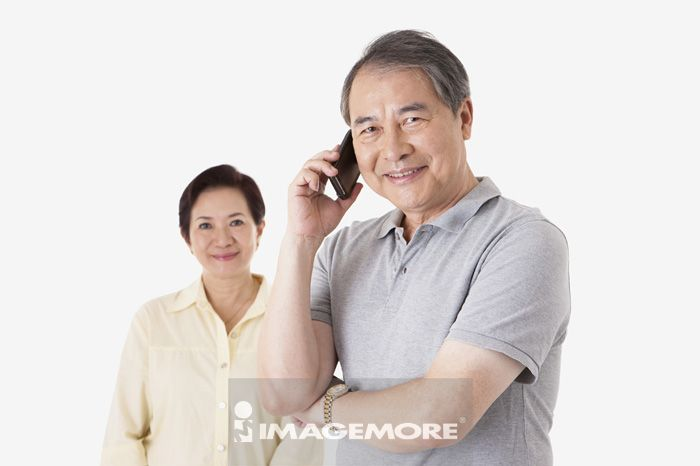phone: (328, 129, 360, 198)
talk: (284, 97, 436, 251)
